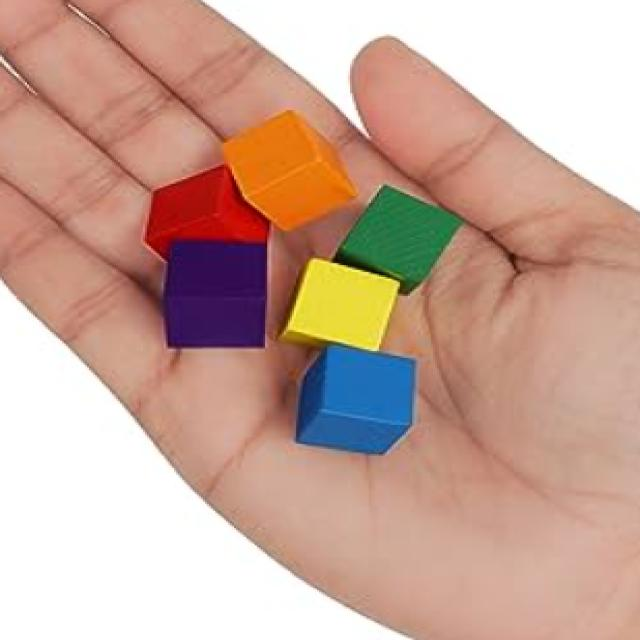bluecube: (296, 347, 417, 457)
green cube: (331, 183, 466, 295)
red cube: (142, 162, 271, 263)
